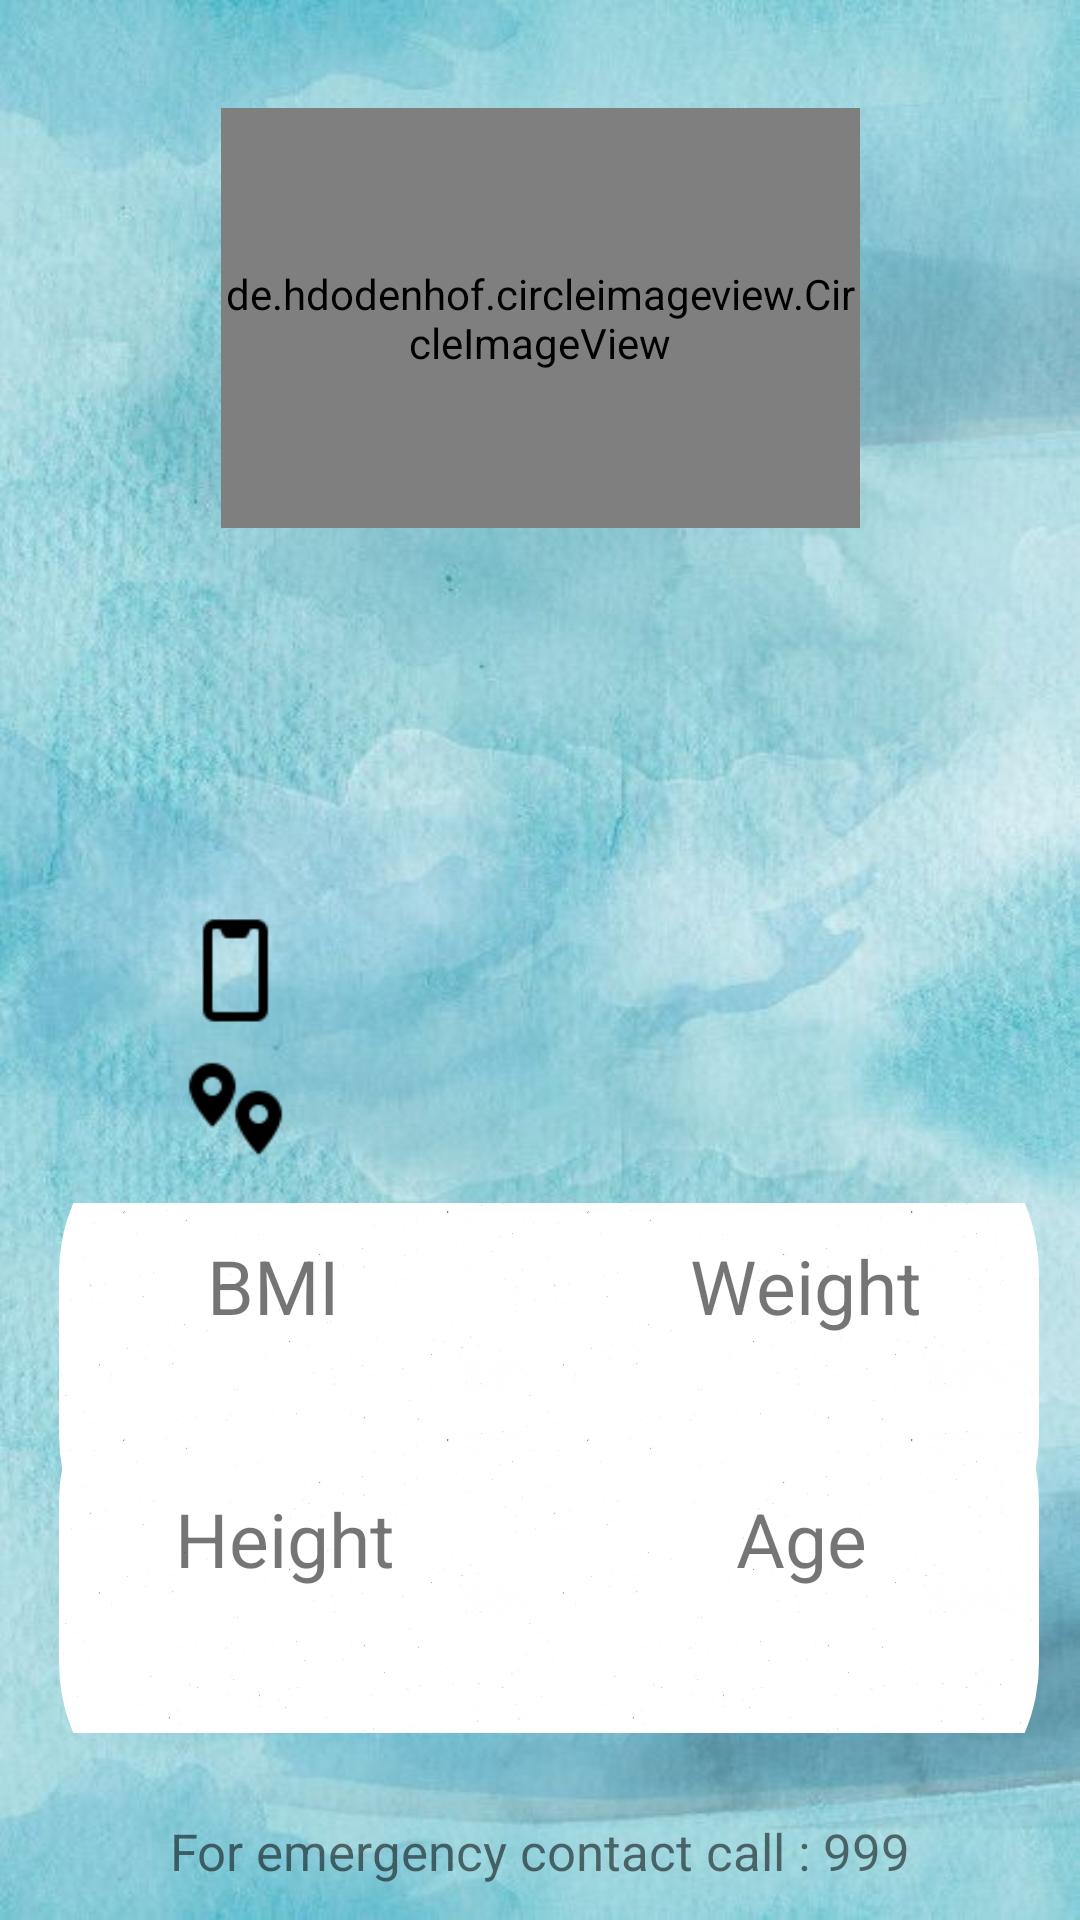

Icons on this 1080 × 1920 Android screen, each with the point to tap as (x=x, y=y):
iphonex: (x=235, y=970)
